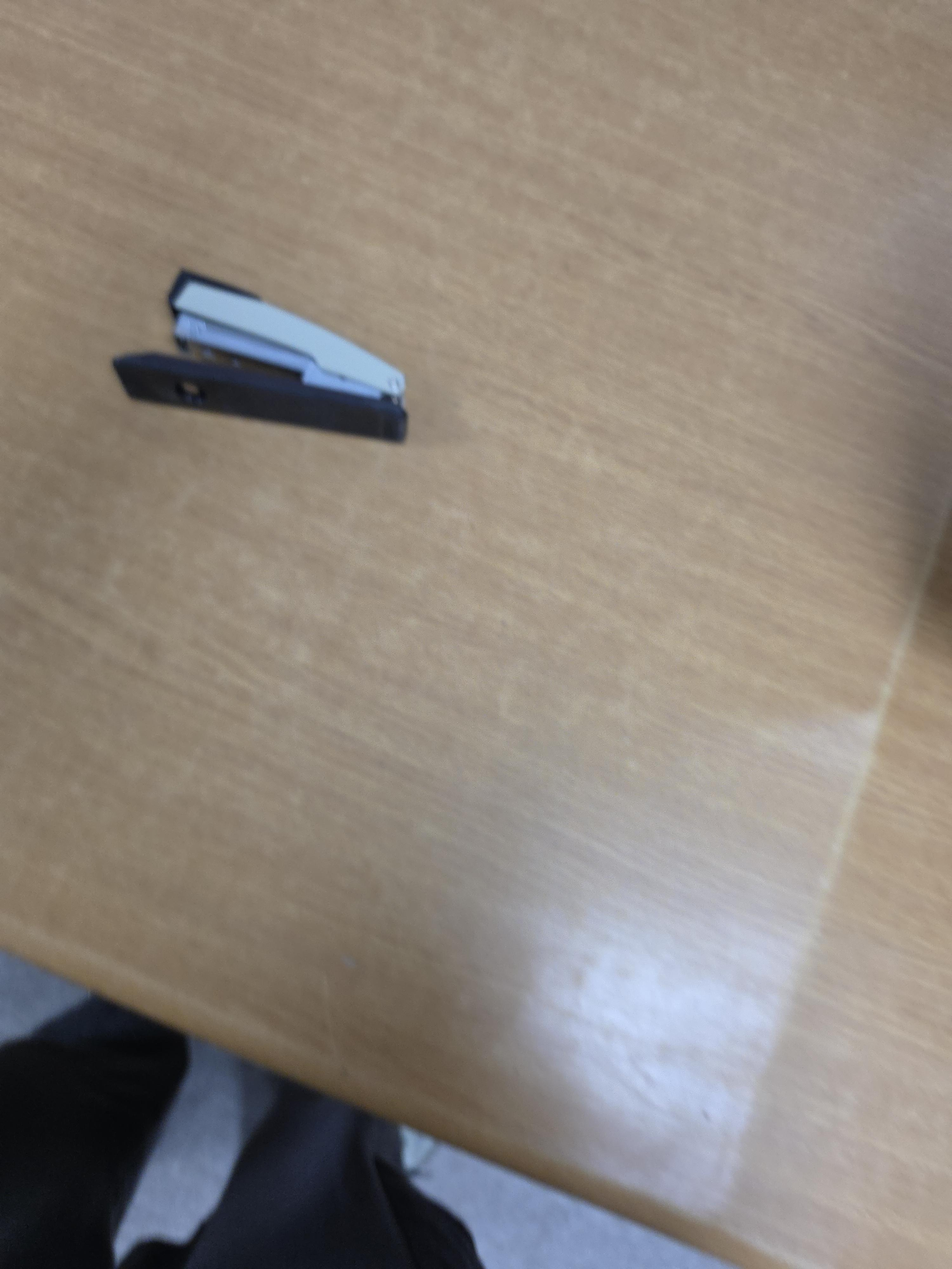stapler: (111, 268, 408, 444)
